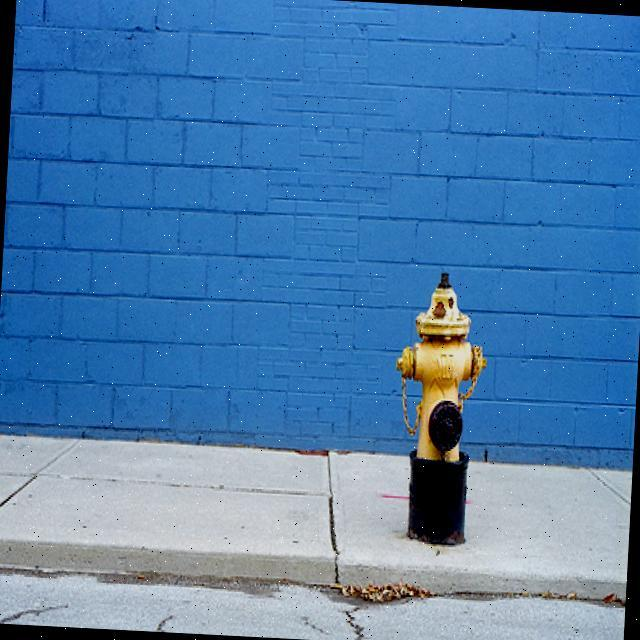fire_hydrant: (386, 270, 492, 548)
